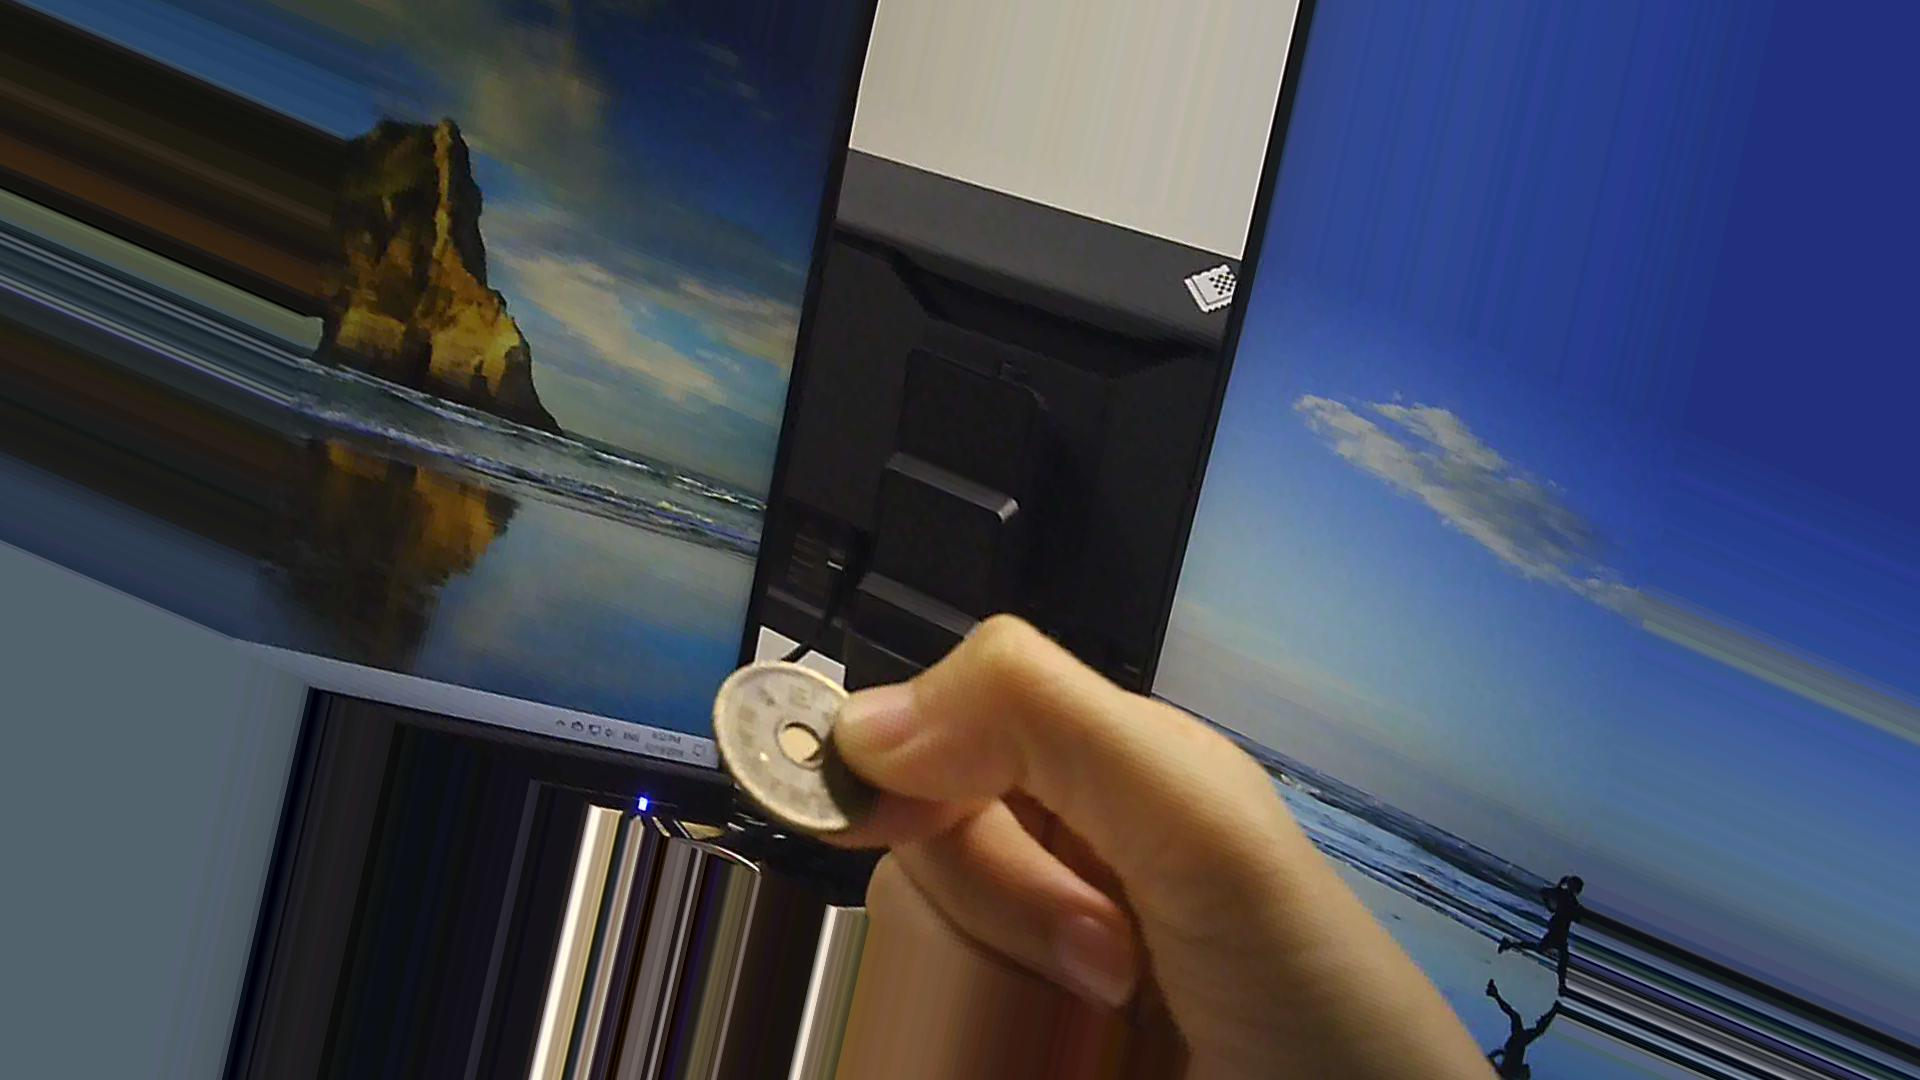5 Yen: (713, 647, 891, 856)
